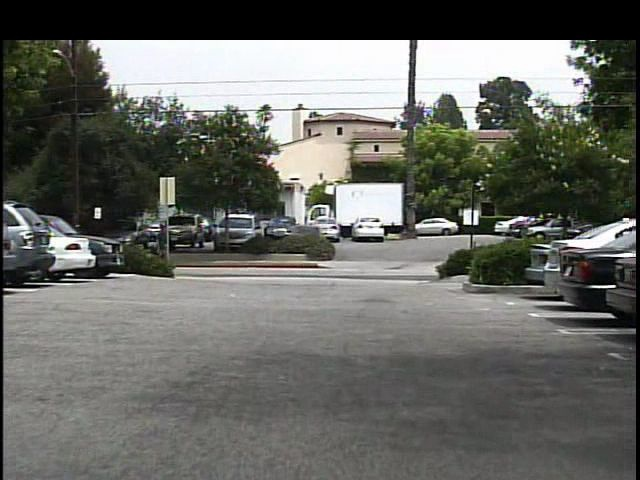person: (153, 221, 177, 273)
